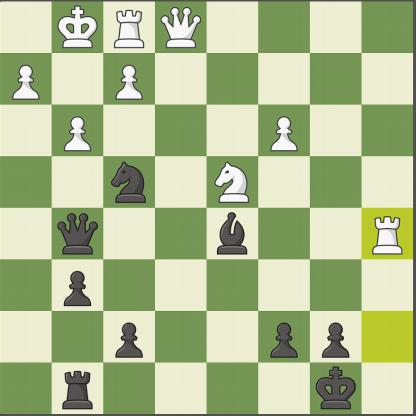Black Bishop: (210, 210, 252, 259)
Black Castle: (55, 366, 97, 412)
Black King: (313, 364, 358, 412)
Black Knight: (105, 158, 151, 204)
Black Pawn: (110, 314, 148, 363), (268, 315, 303, 361), (315, 316, 352, 359), (58, 264, 93, 306)
Black Queen: (54, 210, 100, 256)
White Castle: (107, 4, 156, 52), (366, 211, 408, 256)
White King: (53, 4, 98, 51)
White Knight: (210, 158, 256, 205)
White Pawn: (52, 107, 97, 152), (109, 57, 151, 102), (9, 55, 45, 103), (263, 111, 303, 154)
White Queen: (157, 3, 203, 50)
